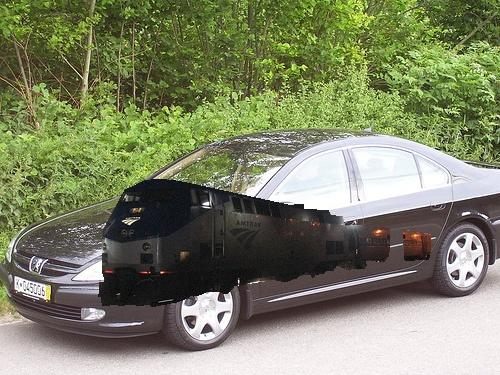tampered: (99, 180, 431, 307)
